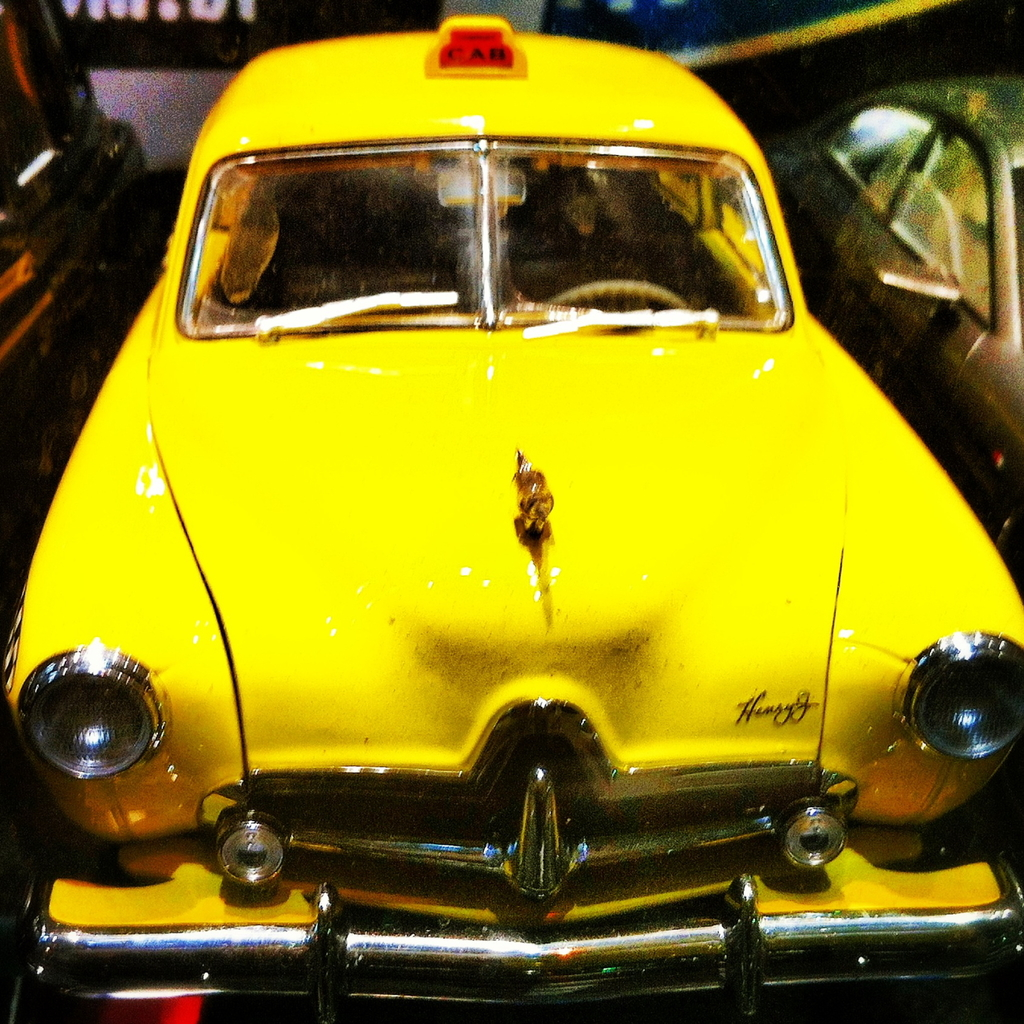mobil: (1, 1, 1007, 997)
